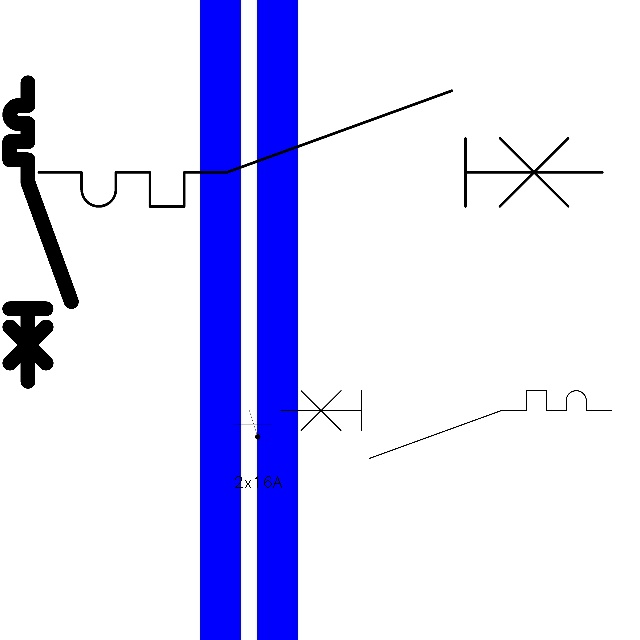interruptor_termomagnetico: (24, 76, 617, 221), (272, 382, 620, 467), (2, 75, 79, 389)
